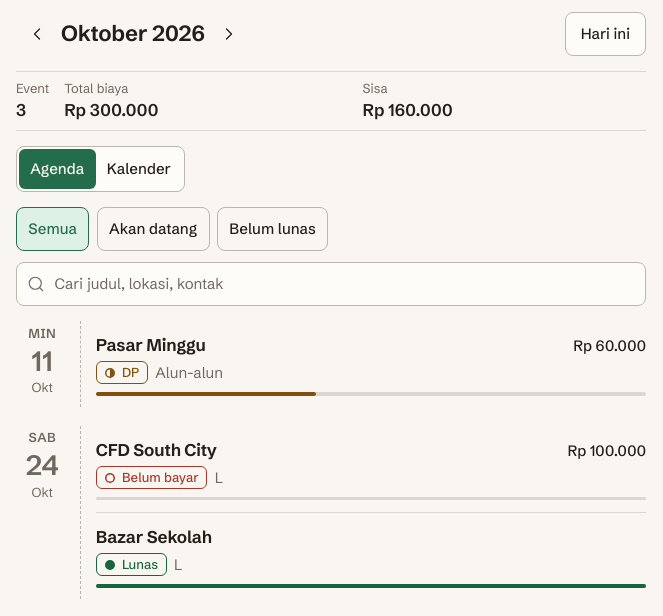
Scenario: "Belum lunas" chip hides paid events
Click the button "Belum lunas": click(273, 229) 217,207 -> 328,251
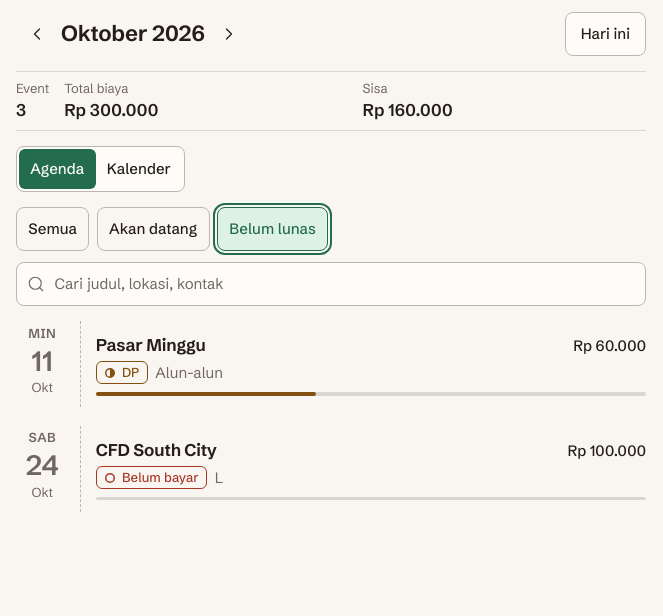
expect the heading "CFD South City" is shown: met, box 96,437 -> 217,462
expect the link "Bazar Sekolah" is gone: met
